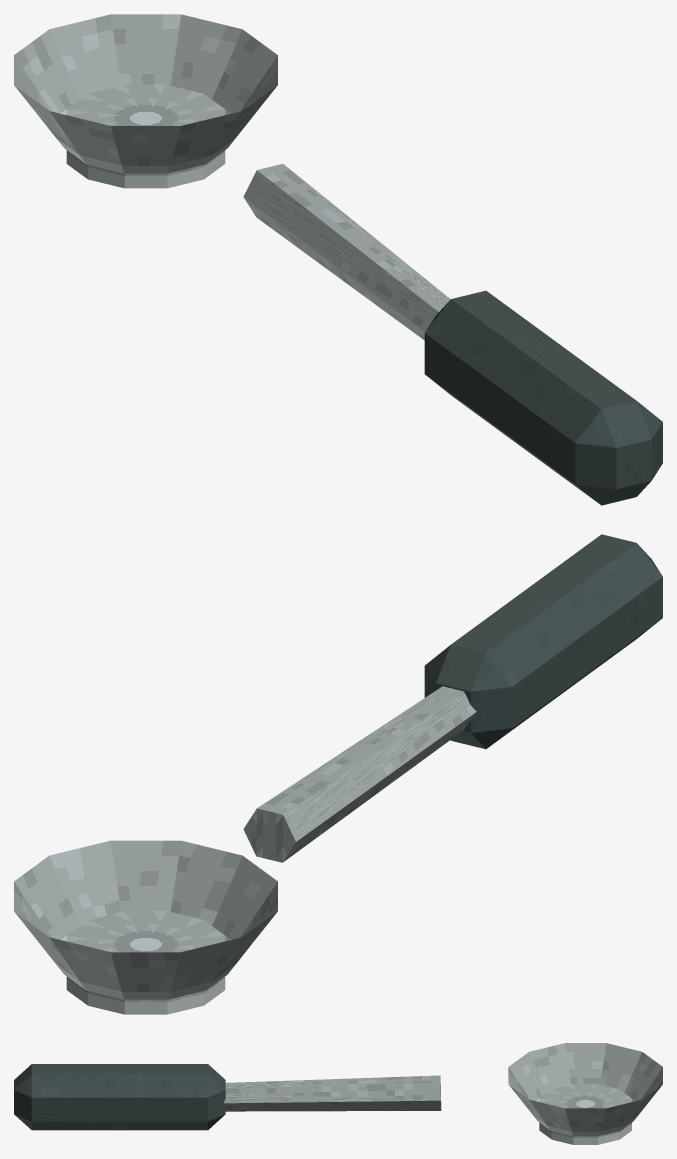
Rendered from icecream_scoop.glb.
3 renders of one model, top to bottom at view 1: azimuth 30°, elevation 25°; view 2: azimuth 150°, elevation 25°; view 3: azimuth 270°, elevation 25°, orthographic. The views are drawn at different scales.
Visible parts, largest first — view 1: block_bowl lip, block_handle, block_steel shank, block_bowl bottom; view 2: block_bowl lip, block_handle, block_steel shank, block_bowl bottom; view 3: block_handle, block_bowl lip, block_steel shank, block_bowl bottom.
Boxes of the visible parts, box(x1,y1,x2,y2) form: block_bowl lip: box(14, 14, 277, 173); block_handle: box(424, 290, 662, 505); block_steel shank: box(243, 164, 450, 340); block_bowl bottom: box(66, 84, 225, 188); block_bowl lip: box(14, 840, 277, 999); block_handle: box(424, 534, 662, 749); block_steel shank: box(243, 686, 476, 862); block_bowl bottom: box(66, 911, 225, 1014); block_handle: box(14, 1064, 225, 1130); block_bowl lip: box(508, 1043, 662, 1136); block_steel shank: box(223, 1075, 441, 1111); block_bowl bottom: box(539, 1084, 631, 1144).
Bounding box in the file's own units: 0.0522 × 0.021 × 0.2191.
Materials: 2 (2 with a texture image).
